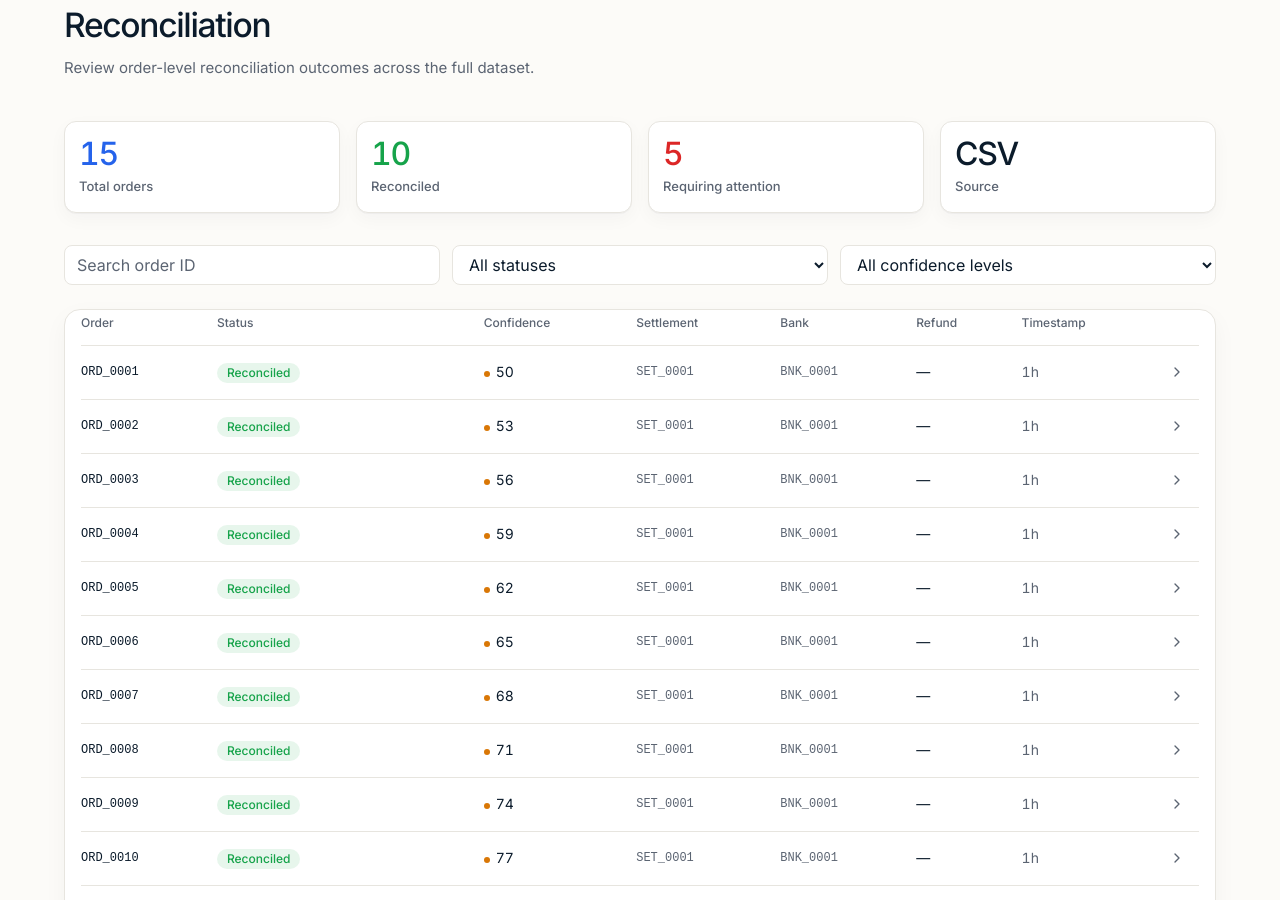
it: frontend interactions › filters reconciliation table by status
The image size is (1280, 900).
Select "unreconciled missing settlement" in the 1st dropdown at (640, 265), box [452,245,828,285]
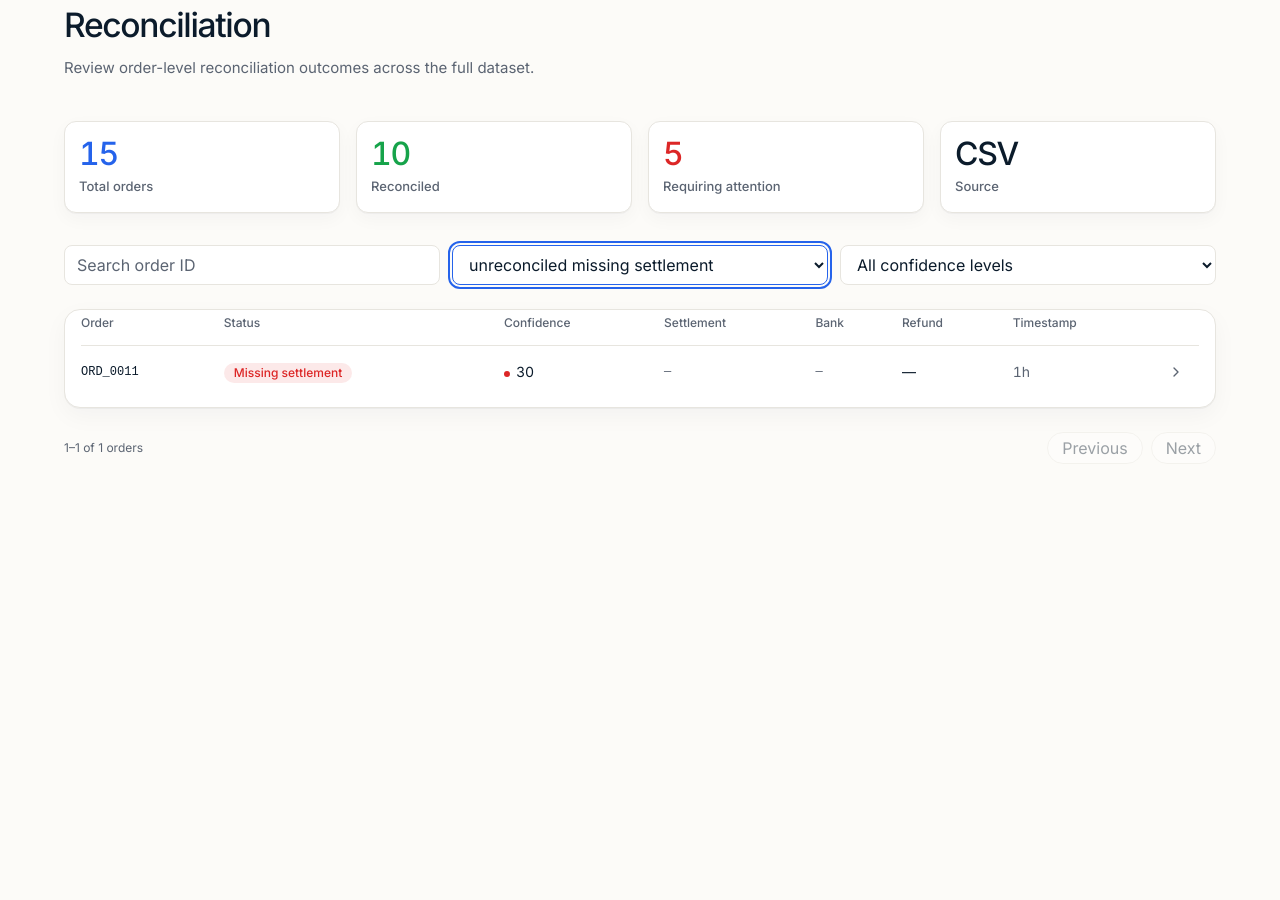
Check: the text "ORD_0011" is shown, box [81,345,224,399]
Check: the button "ORD_0001" is gone
